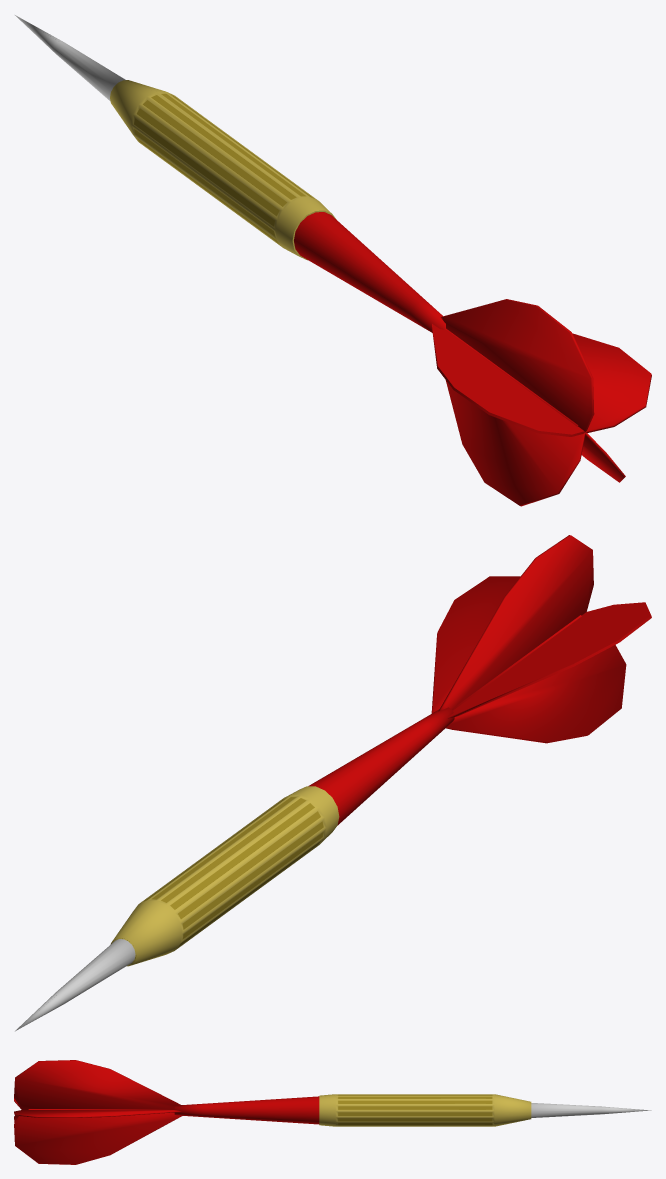
File: Dart.fbx
3 renders of one model, top to bottom at view 1: azimuth 30°, elevation 25°; view 2: azimuth 150°, elevation 25°; view 3: azimuth 270°, elevation 25°, orthographic. The views are drawn at different scales.
Parts seen in each view (by area): view 1: Dart; view 2: Dart; view 3: Dart.
Boxes of the visible parts, x1,y1,x2,y2 form: Dart: (15,15,651,506); Dart: (15,535,651,1031); Dart: (14,1060,651,1164).
Bounding box in the file's own units: 6.15 × 5.85 × 37.07.
